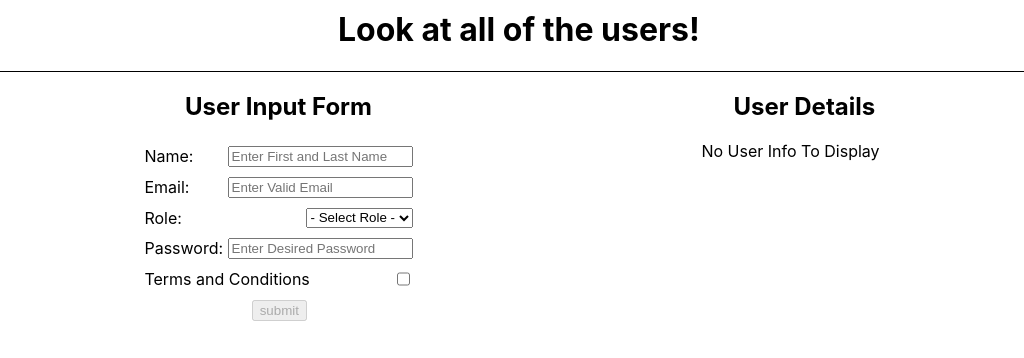
Form App › username form validation functions properly
In the field named "name": point(321, 157) [228,146,413,167], type "a"
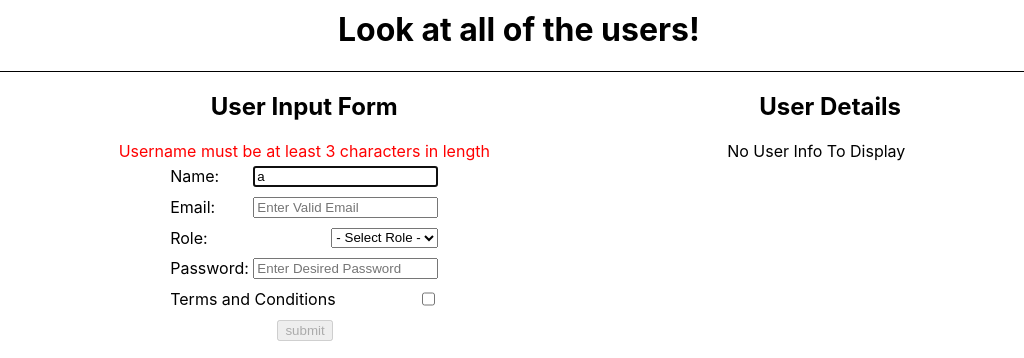
Clear the field named "name": point(346, 177) [253,166,438,187]
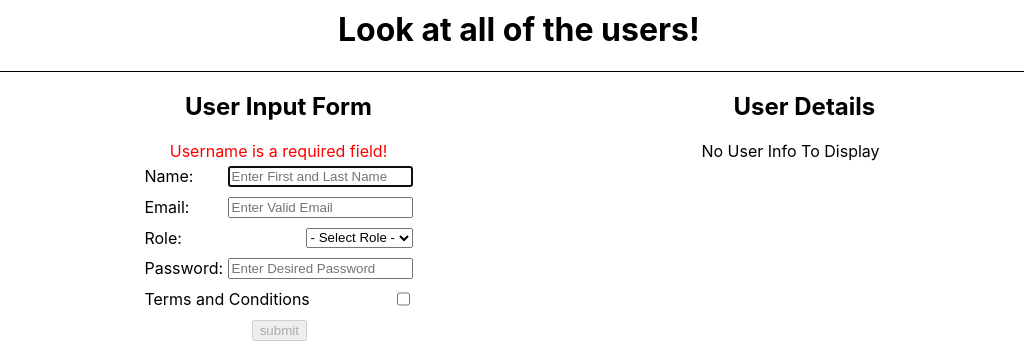
Now the text "Username is a required field!" is shown, box [170,141,387,161]
